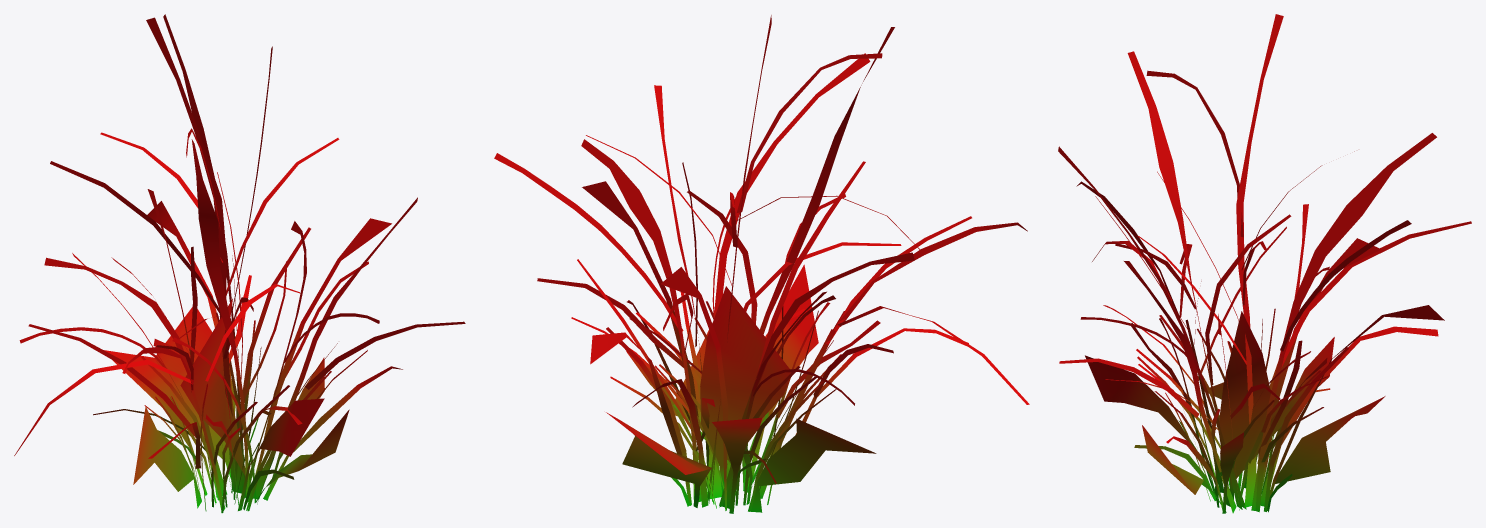
The model's file is Var5_LOD1.fbx.
3 views of the same model, side by side, from view 1: azimuth 30°, elevation 25°; view 2: azimuth 150°, elevation 25°; view 3: azimuth 270°, elevation 25° (orthographic). The views are drawn at different scales.
Parts seen in each view (by area): view 1: _fb88_Var5_LOD1; view 2: _fb88_Var5_LOD1; view 3: _fb88_Var5_LOD1.
Boxes of the visible parts, x1,y1,x2,y2 form: _fb88_Var5_LOD1: (14,14,465,513); _fb88_Var5_LOD1: (494,15,1029,513); _fb88_Var5_LOD1: (1058,14,1471,513).
Size of the model in its own units: 136 by 155 by 126.
